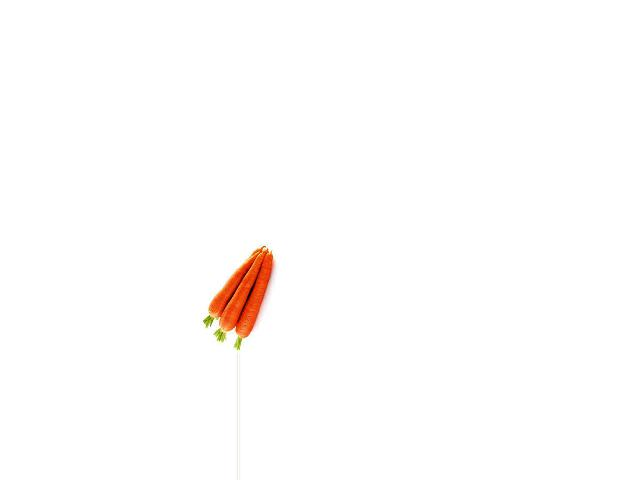carrot: (233, 254, 271, 335)
